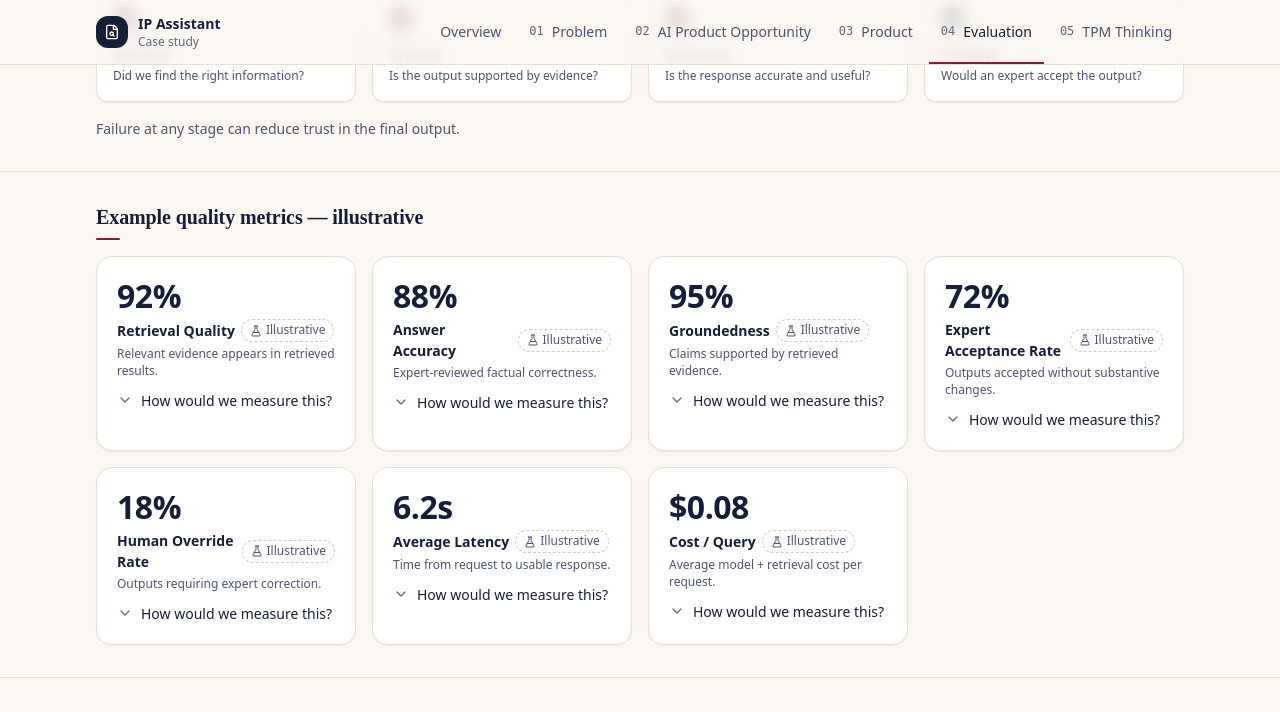
Test: Evaluation page › shows all 7 metrics with value + explanation, each tagged Illustrative, and reveals its measurement note on click
The width and height of the screenshot is (1280, 712).
(page scrolled)
Expected: the text "92%" is shown, [117, 274, 181, 317]
Expected: the text "Retrieval Quality" is shown, [117, 321, 235, 340]
Click the heading "How would we measure this?" below "92%": (226, 400) [117, 390, 335, 410]
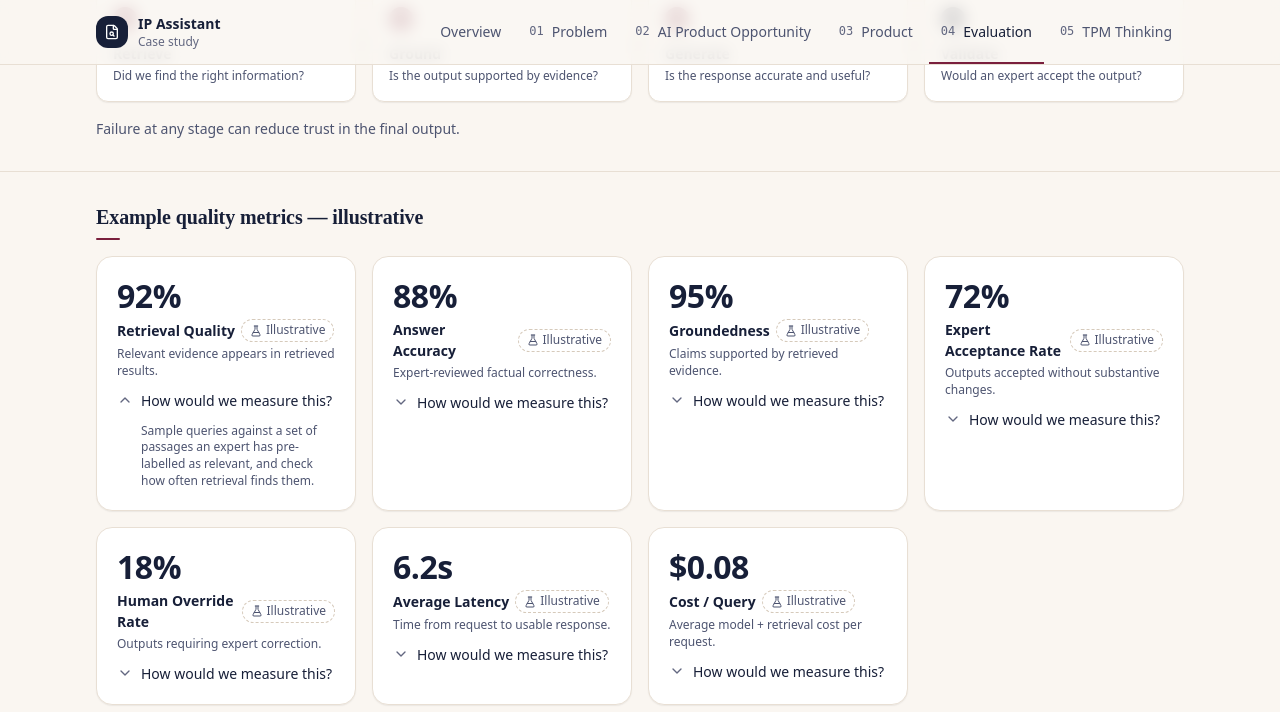
Expected: the text "Sample queries against a set of passages an expert has pre-labelled as relevant, and check how often retrieval finds the" is shown, [141, 422, 317, 489]
